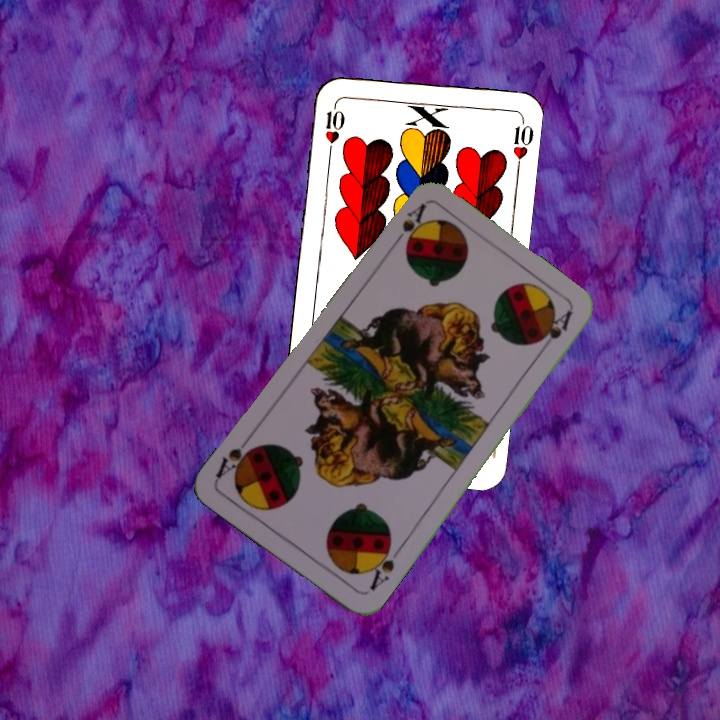H10: (321, 98, 347, 157)
SA: (387, 199, 429, 251), (363, 538, 398, 594)
